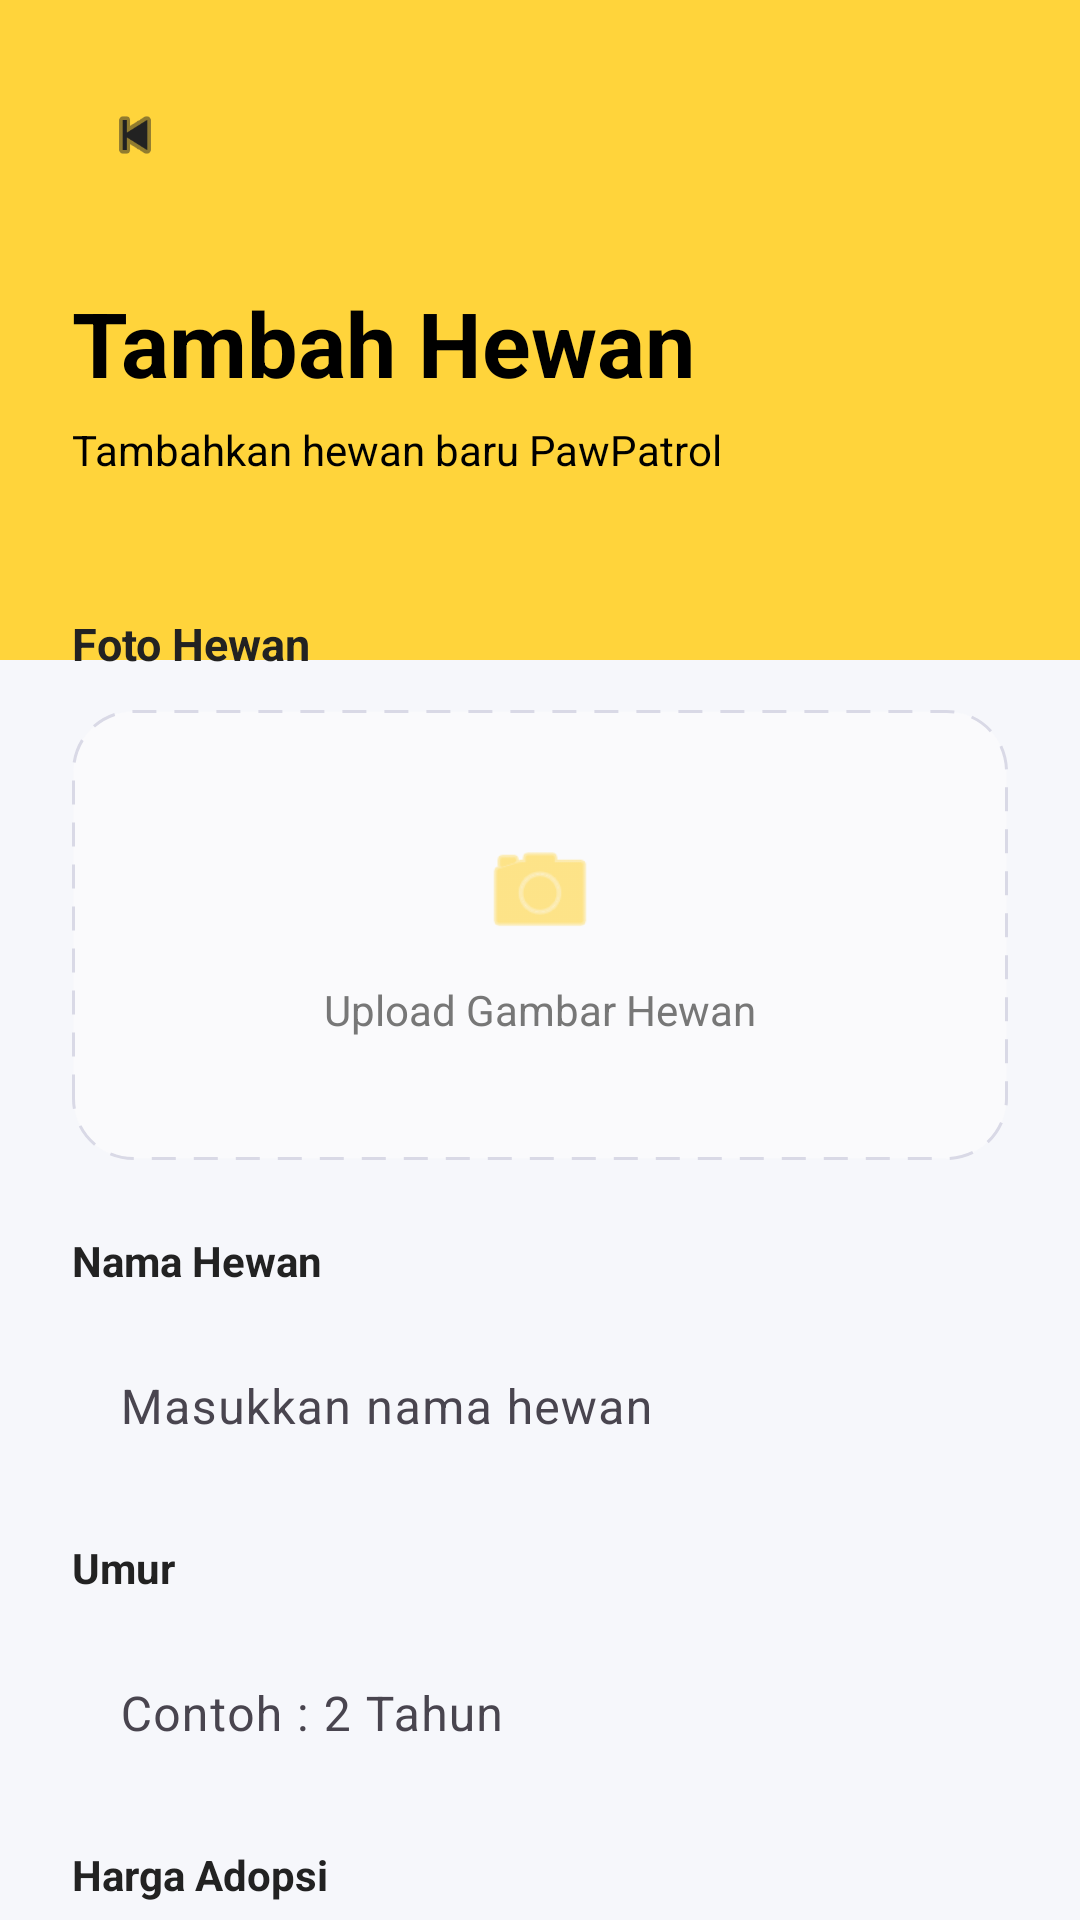

Where to tap for icons on this 1080x1920 app screen, as (x=x, y=y):
camera: (x=540, y=889)
previous: (x=135, y=135)
